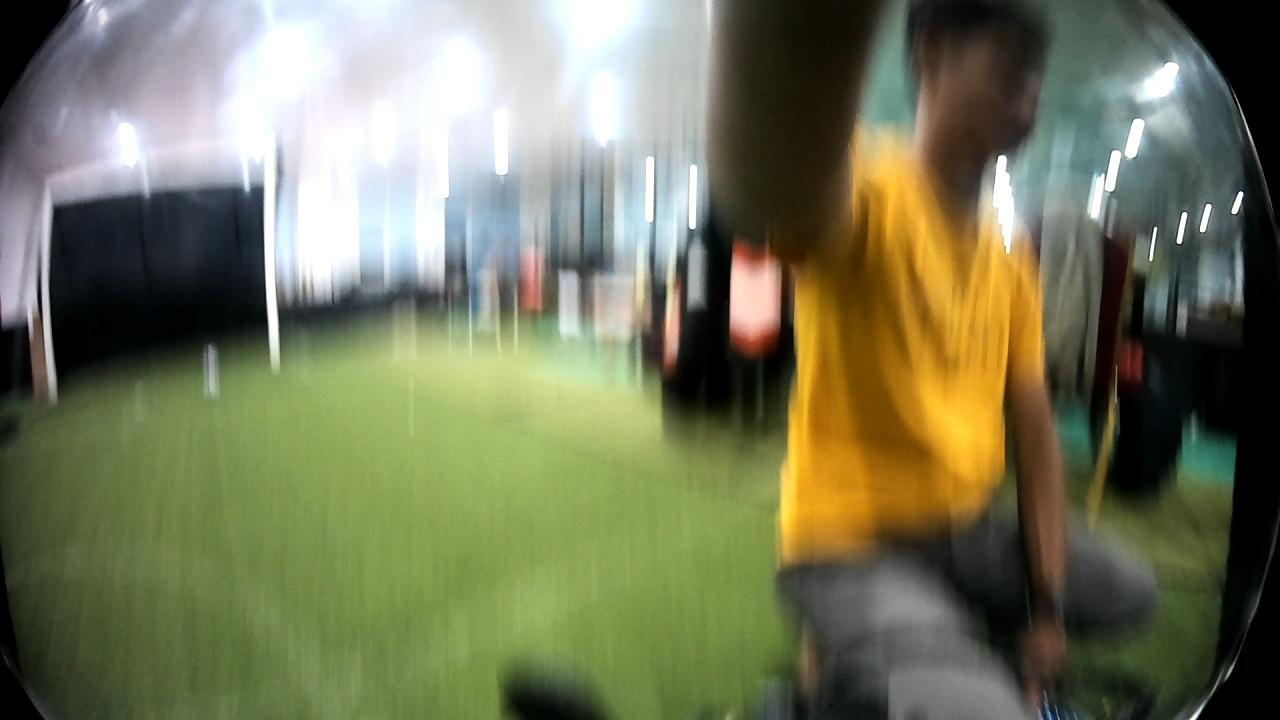ball: (203, 337, 219, 408)
